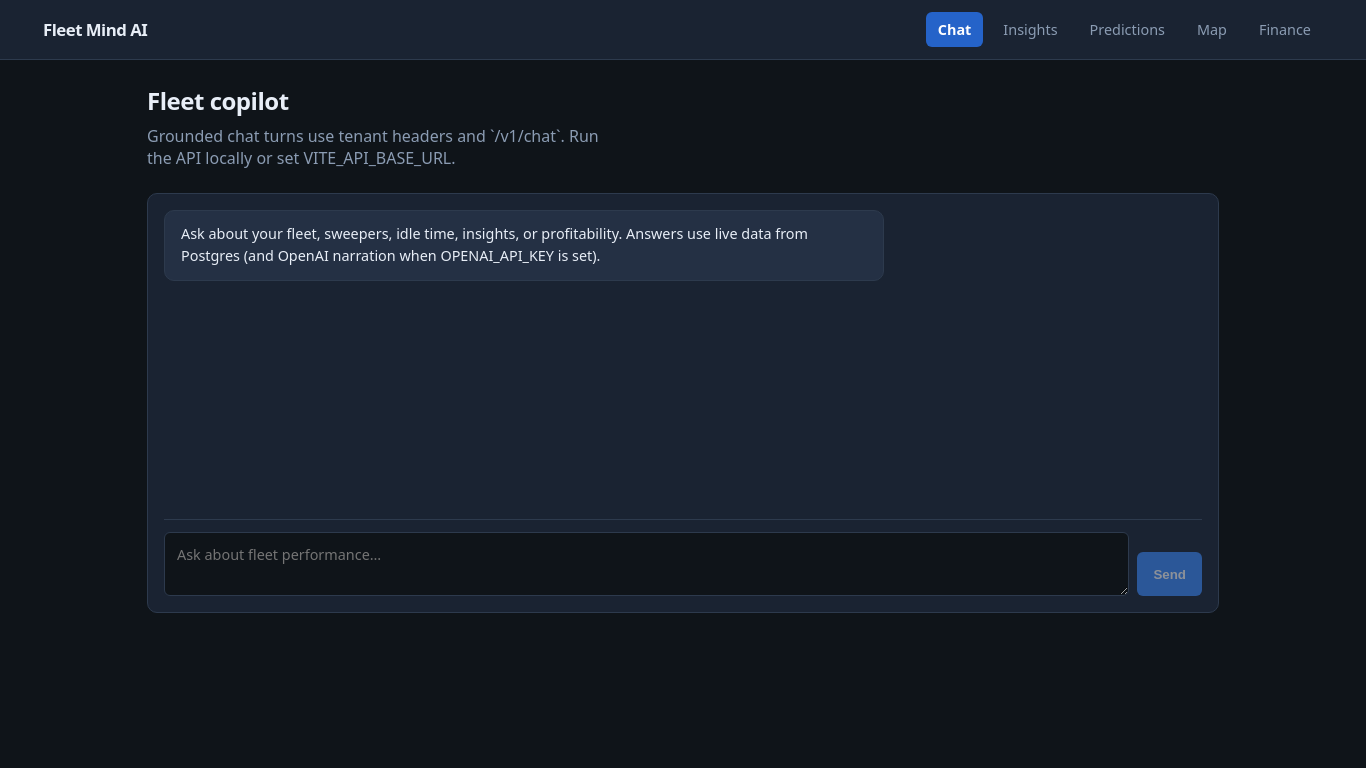
App navigation › switches between chat, insights, and map from the shell nav
Expected: the heading "Fleet copilot" is shown, [147,84,289,117]
Click the link "Insights".
click(1030, 30)  # box [1003,20,1058,39]
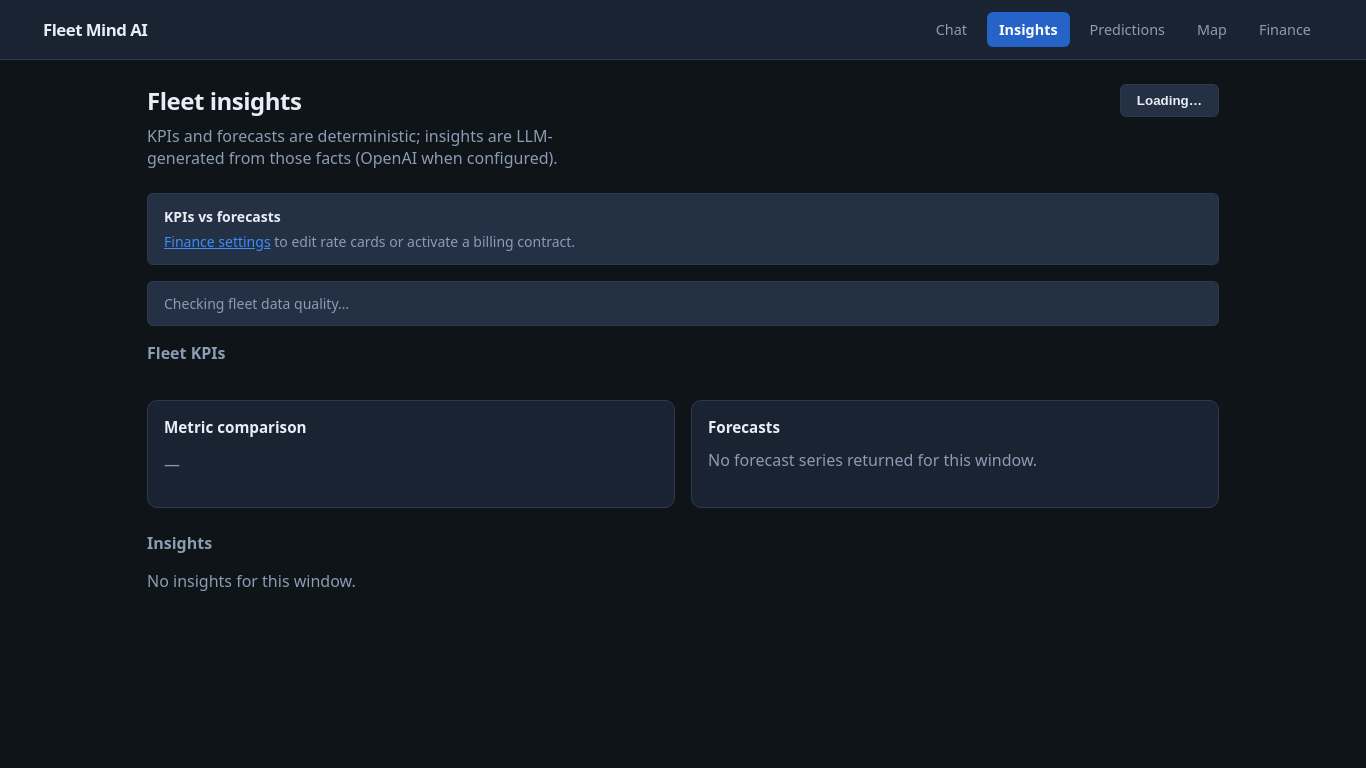
Now the heading "Fleet insights" is shown, box [147,84,302,117]
Click the link "Predictions".
click(1127, 30)  # box [1090,20,1165,39]
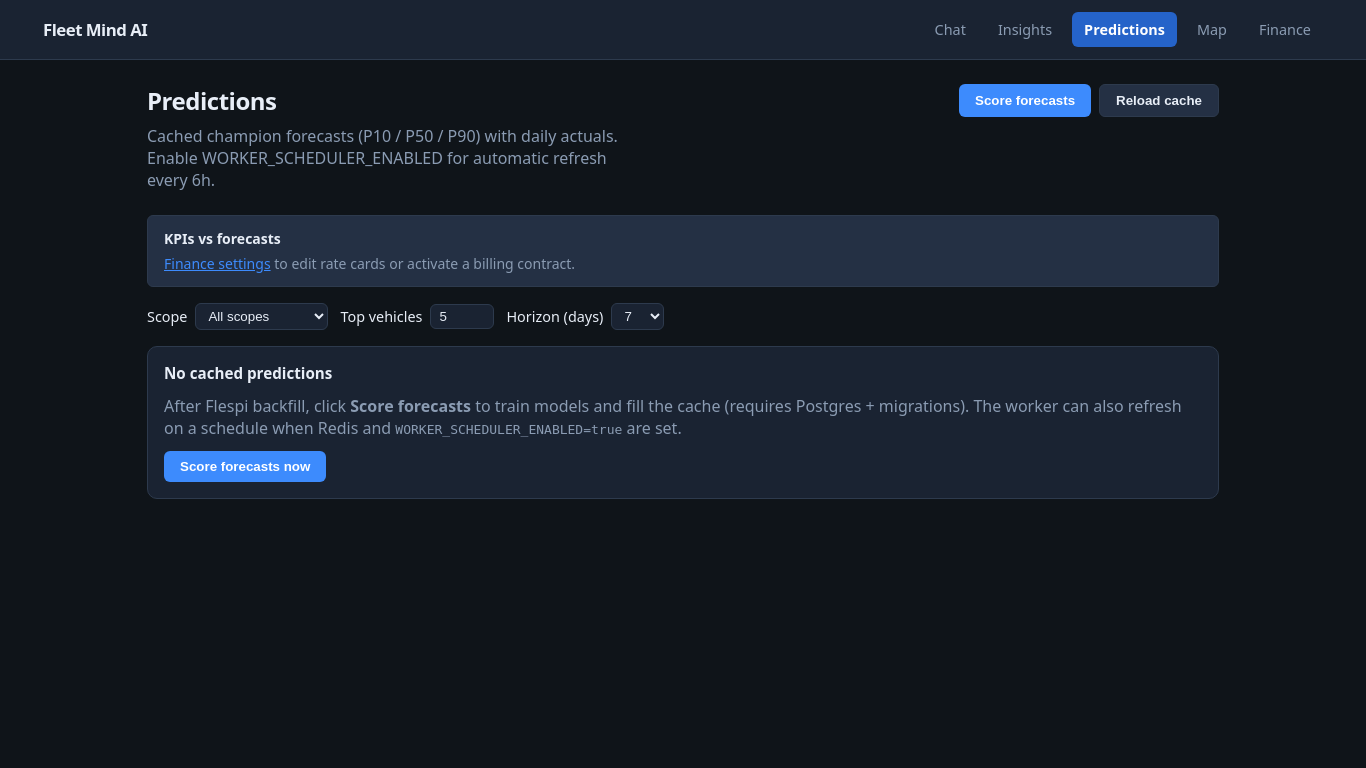
Now the heading "Predictions" is shown, box [147,84,276,117]
Click the link "Map".
click(1212, 30)  # box [1197,20,1227,39]
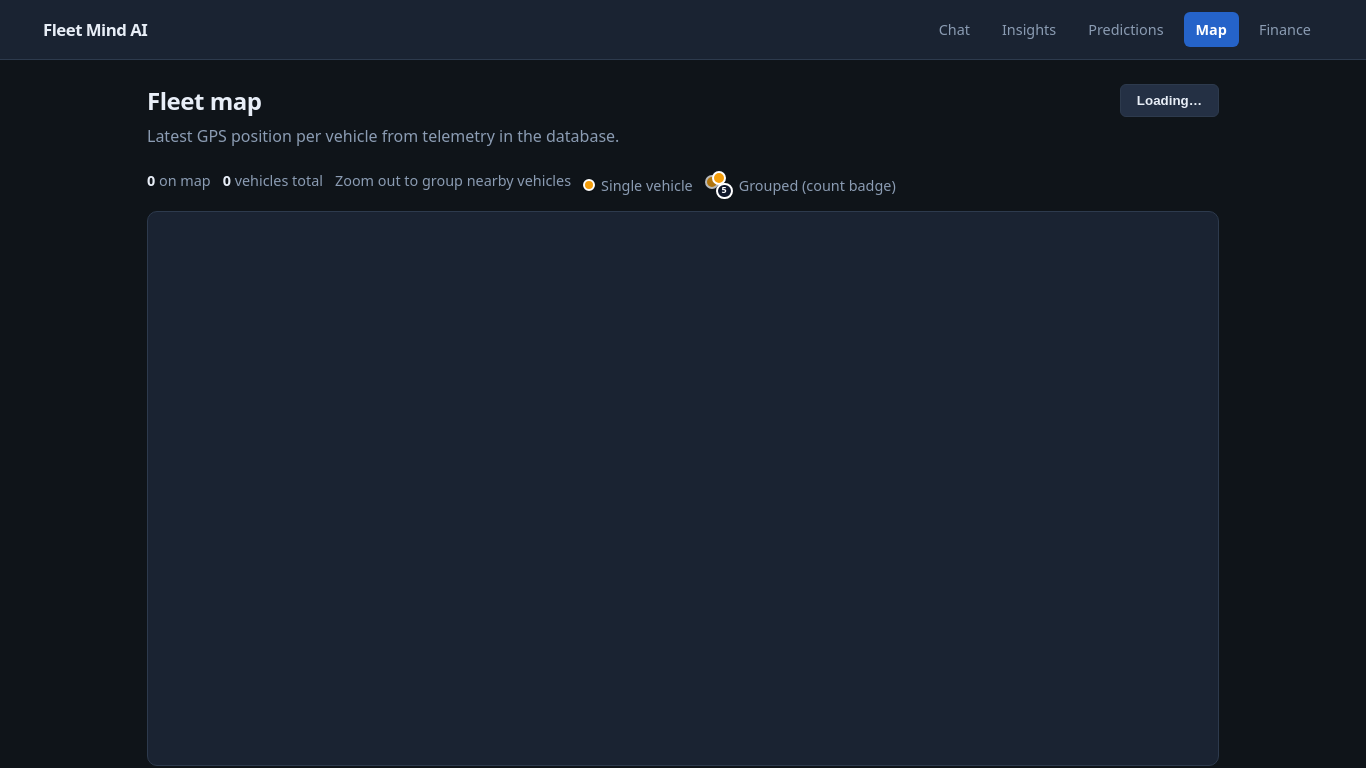
Now the heading "Fleet map" is shown, box [147,84,262,117]
Click the link "Chat".
click(954, 30)  # box [939,20,970,39]
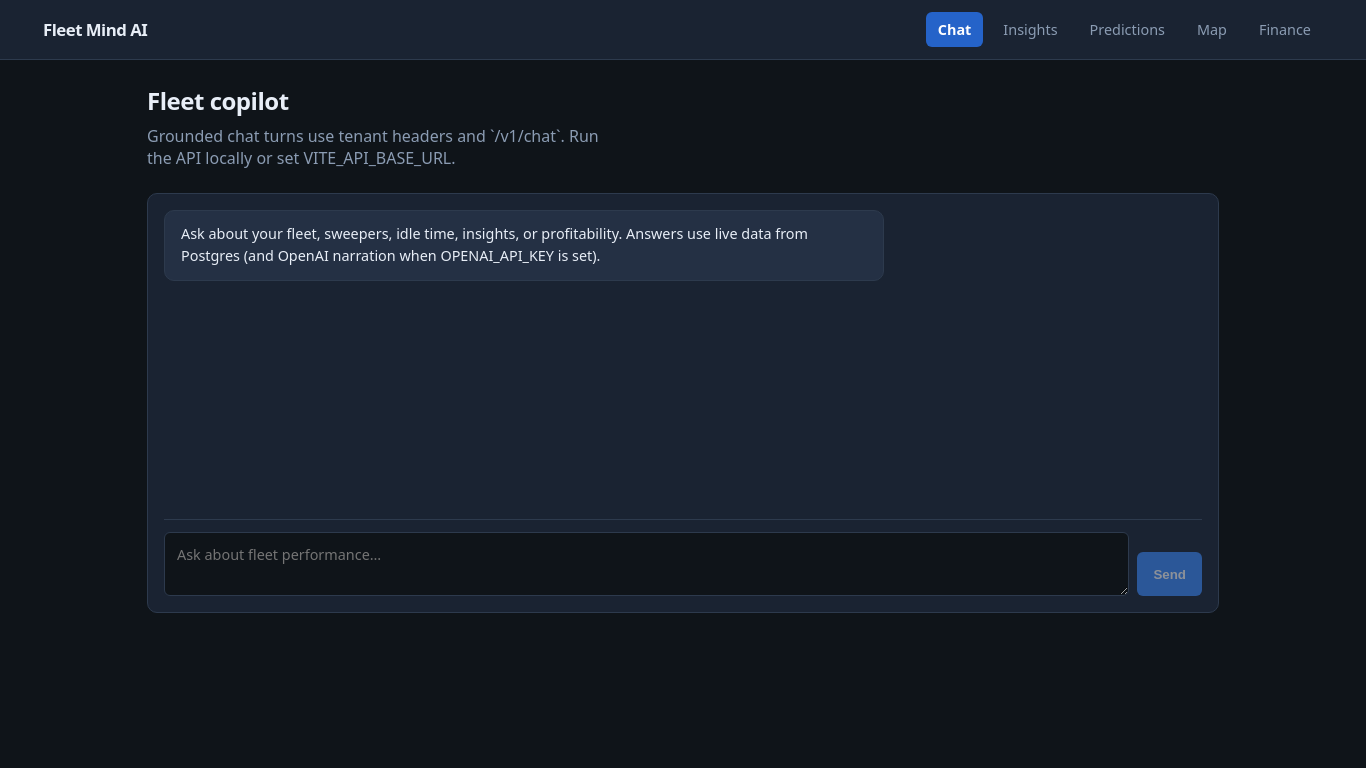
Now the heading "Fleet copilot" is shown, box [147,84,289,117]
